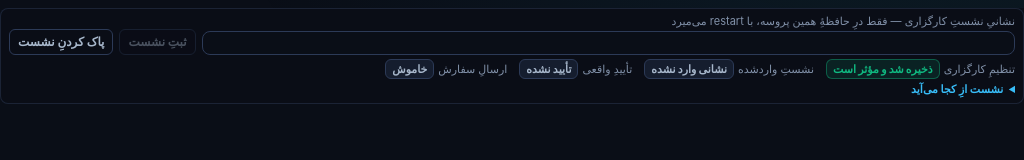
Test: خطا و نرسیدنِ پاسخ › پاسخِ نرسیده «پاک شد» نمی‌گوید؛ فقط علتِ خطا نوشته می‌شود
Check: the text "ذخیره شد و مؤثر است" is shown, box [826, 59, 940, 79]
Type "SEC-AbCdEf-0123456789" into the password field with test id "sarkhati-token-input" at {"x": 608, "y": 43}, box [202, 31, 1015, 55]
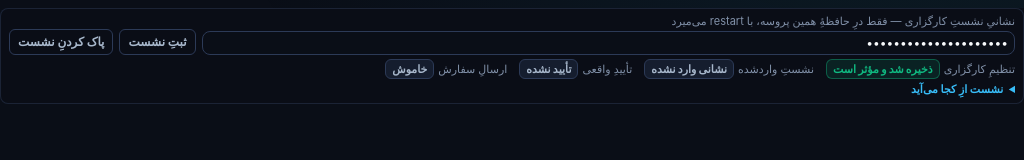
Click the button with test id "sarkhati-token-save" at {"x": 158, "y": 42}, box [120, 29, 196, 55]
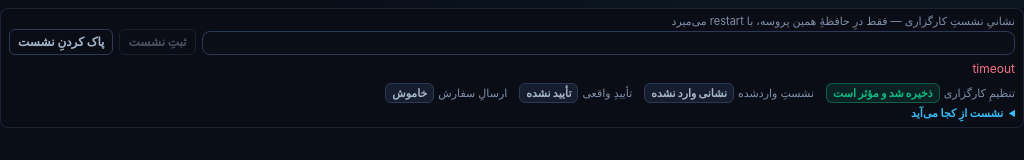
Check: the text with test id "sarkhati-gate-proven" reads "تأیید نشده", box [526, 86, 572, 100]
Check: the message "timeout" is shown, box [972, 61, 1015, 76]
Check: the password field with test id "sarkhati-token-input" is empty, box [202, 31, 1015, 55]
